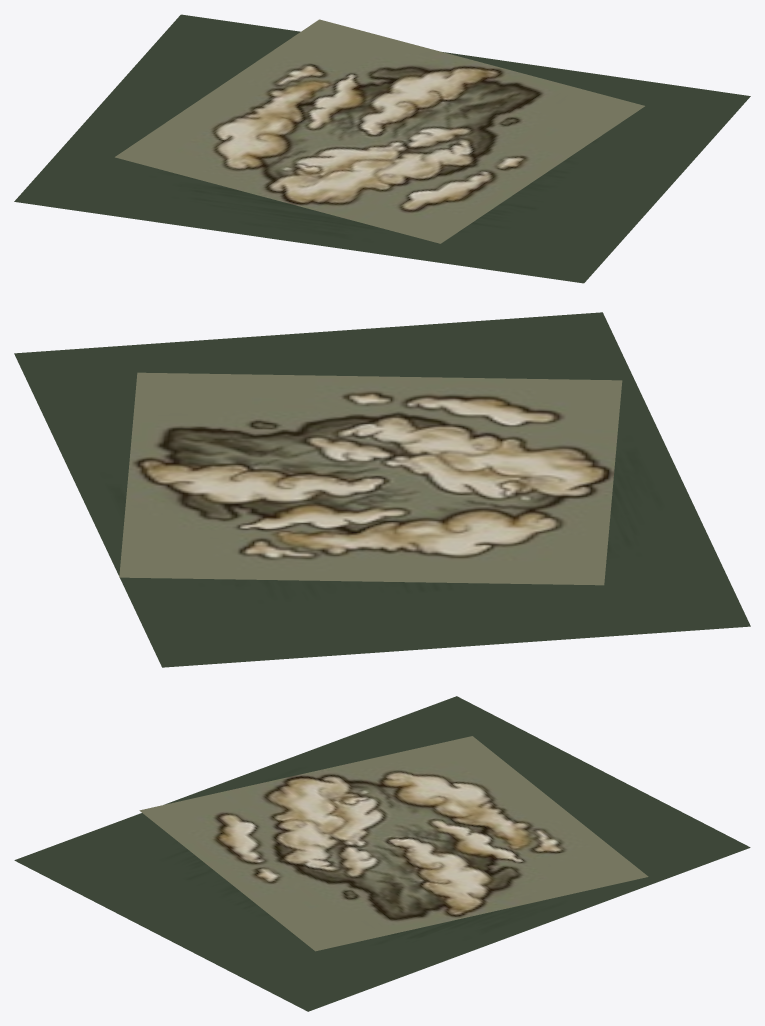
File: pir_m_are_isl_mysterious_07_worldmap.fbx
The picture shows the model from 3 angles, top to bottom: view 1: azimuth 30°, elevation 25°; view 2: azimuth 150°, elevation 25°; view 3: azimuth 270°, elevation 25°; orthographic projection. The views are drawn at different scales.
Parts seen in each view (by area): view 1: top_mesh, sketchmark; view 2: top_mesh, sketchmark; view 3: top_mesh, sketchmark.
Boxes of the visible parts, left/top/right/bottom form: top_mesh: left=115, top=19, right=644, bottom=243; sketchmark: left=14, top=14, right=750, bottom=283; top_mesh: left=119, top=372, right=622, bottom=585; sketchmark: left=14, top=312, right=750, bottom=667; top_mesh: left=139, top=736, right=648, bottom=951; sketchmark: left=14, top=696, right=750, bottom=1011.
Size of the model in its own units: 38.41 by 0.6774 by 37.89.
1 material, 1 textured.
